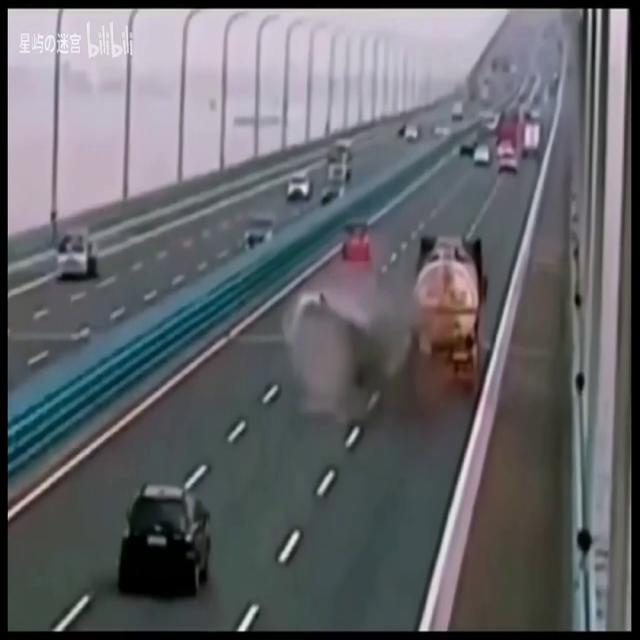multiple_accident: (273, 241, 539, 401)
normal: (99, 483, 243, 587), (393, 91, 579, 166), (286, 126, 366, 233), (54, 220, 100, 271), (247, 214, 287, 259)
